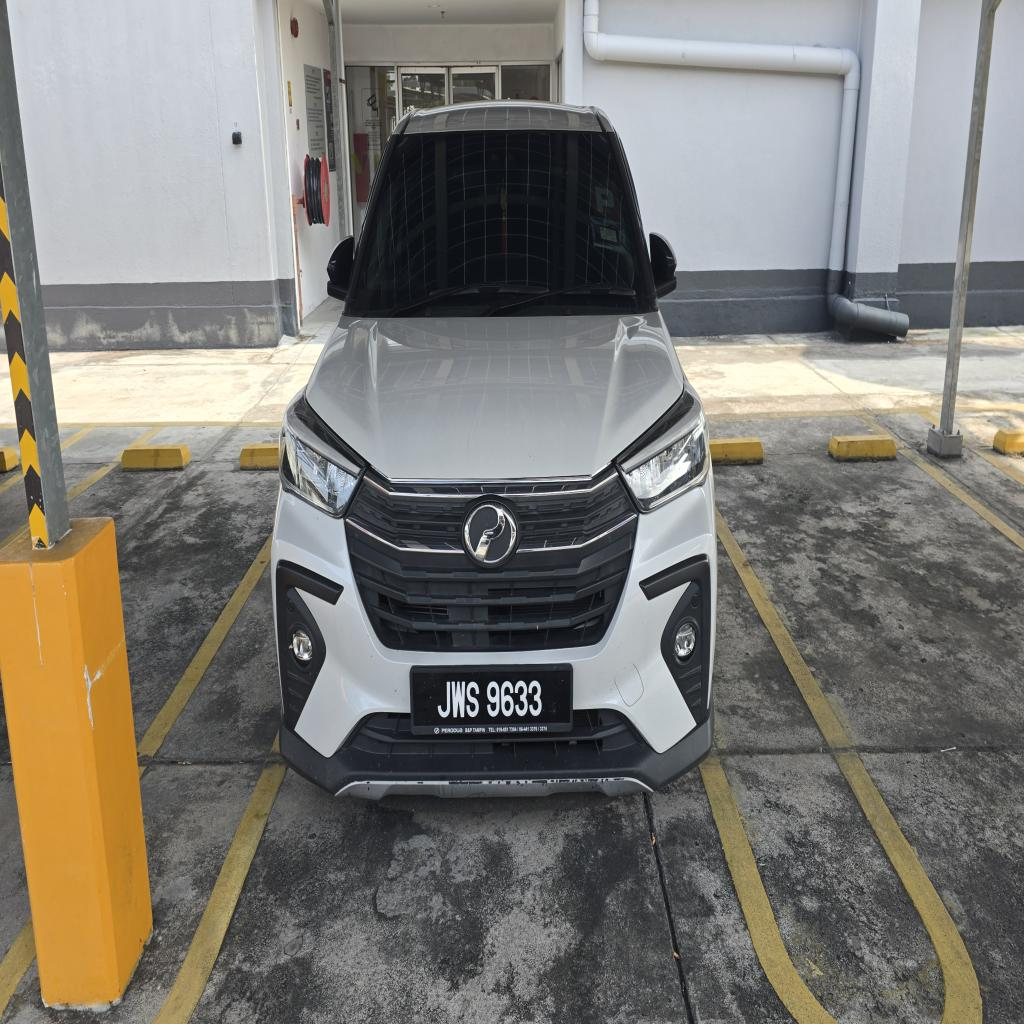car: (272, 102, 716, 797)
car plate: (412, 666, 572, 737)
